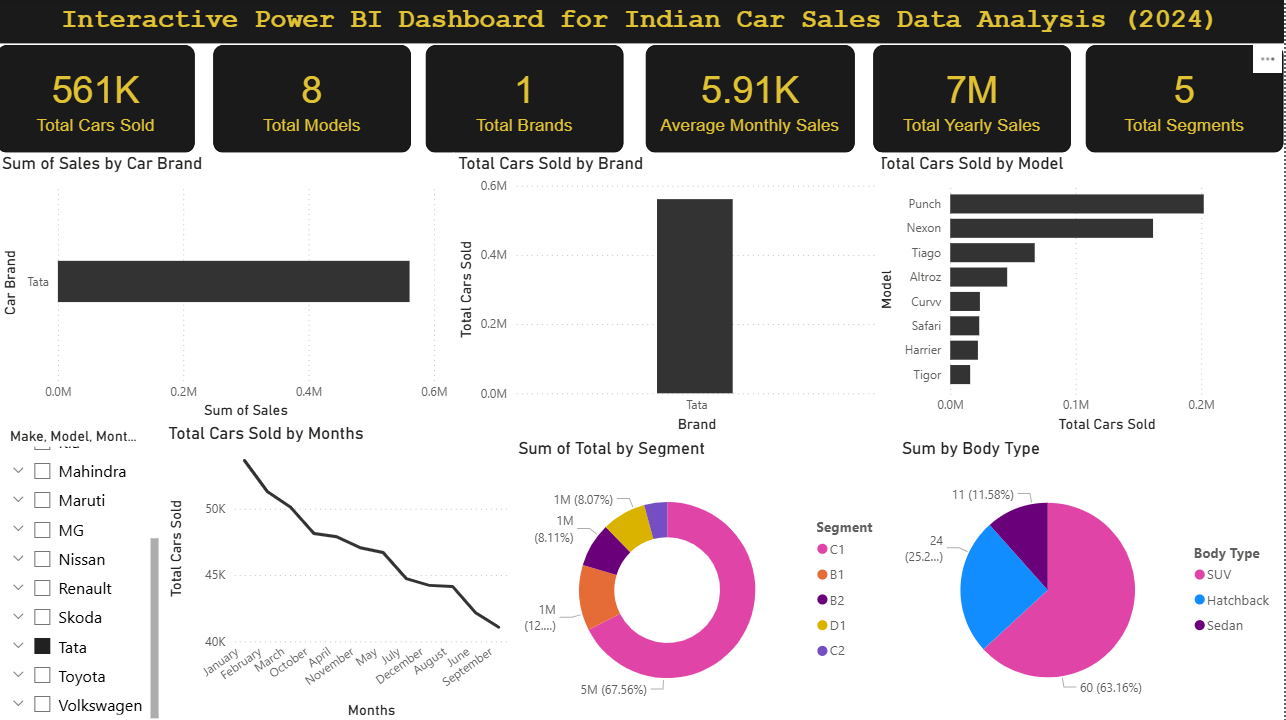

Layout of this report page (visuals, bound fields, positions):
{"tool":"powerbi","page":{"name":"Page 1","canvas":[1280,720],"ordinal":0},"visuals":[{"type":"card","fields":{"Values":["Sheet1.Total Cars Sold"]},"box":[0,44.8,196.5,107],"z":0},{"type":"card","fields":{"Values":["Sheet1.Total Models"]},"box":[215.2,44.8,196.5,107],"z":1},{"type":"card","fields":{"Values":["Sheet1.Total Brands"]},"box":[426.7,44.8,196.5,107],"z":2},{"type":"card","fields":{"Values":["Car Sales.Average Monthly Sales"]},"box":[645.6,44.8,207.7,107],"z":3},{"type":"card","fields":{"Values":["Car Sales.Total Yearly Sales"]},"box":[872,44.8,196.5,107],"z":4},{"type":"card","fields":{"Values":["Car Sales.Total Segments"]},"box":[1083.4,44.8,196.5,107],"z":5},{"type":"clusteredBarChart","fields":{"Category":["Car Sales.Make"],"Y":["Sum(Car Sales.Sales)"]},"box":[0,151.8,454,269.9],"z":6},{"type":"pieChart","fields":{"Category":["Car Sales.Body Type"],"Y":["CountNonNull(Car Sales.Total)"]},"box":[895.7,435.4,384.4,284.9],"z":7},{"type":"donutChart","fields":{"Category":["Car Sales.Segment"],"Y":["Sum(Car Sales.Total)"]},"box":[513.8,435.4,381.9,284.9],"z":8},{"type":"barChart","fields":{"Category":["Car Sales.Model"],"Y":["Car Sales.Total Cars Sold"]},"box":[872,151.8,408,283.6],"z":10},{"type":"slicer","fields":{"Values":["Car Sales.Make","Car Sales.Model","Car Sales.Months","Car Sales.Body Type","Car Sales.Segment"]},"box":[0,420.5,165.4,299.8],"z":11},{"type":"lineChart","fields":{"Y":["Car Sales.Total Cars Sold"],"Category":["Car Sales.Months"]},"box":[165.4,420.5,348.3,299.8],"z":12},{"type":"lineClusteredColumnComboChart","fields":{"Y":["Car Sales.Total Cars Sold"],"Category":["Car Sales.Make"]},"box":[454,151.8,426.7,283.6],"z":13},{"type":"textbox","box":[0,0,1280,43.5],"z":14}]}

Visuals, with their boxes in screenshot pixels (x1, y1, x2, y2), scaled from the page's 1280x720 canvas onto the 1286x720 screenshot:
card - Sheet1.Total Cars Sold: locate(0, 45, 197, 152)
card - Sheet1.Total Models: locate(216, 45, 414, 152)
card - Sheet1.Total Brands: locate(429, 45, 626, 152)
card - Car Sales.Average Monthly Sales: locate(649, 45, 857, 152)
card - Car Sales.Total Yearly Sales: locate(876, 45, 1074, 152)
card - Car Sales.Total Segments: locate(1088, 45, 1285, 152)
clusteredBarChart - Car Sales.Make x Sum(Car Sales.Sales): locate(0, 152, 456, 422)
pieChart - Car Sales.Body Type x CountNonNull(Car Sales.Total): locate(900, 435, 1285, 719)
donutChart - Car Sales.Segment x Sum(Car Sales.Total): locate(516, 435, 900, 719)
barChart - Car Sales.Model x Car Sales.Total Cars Sold: locate(876, 152, 1285, 435)
slicer - Car Sales.Make x Car Sales.Model: locate(0, 420, 166, 719)
lineChart - Car Sales.Total Cars Sold x Car Sales.Months: locate(166, 420, 516, 719)
lineClusteredColumnComboChart - Car Sales.Total Cars Sold x Car Sales.Make: locate(456, 152, 885, 435)
textbox: locate(0, 0, 1285, 44)
